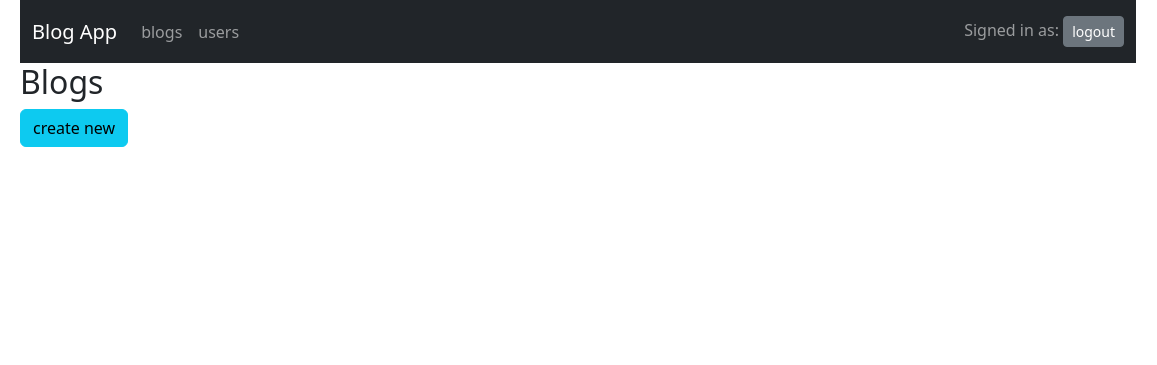
Test case: Blog app › When logged in › A blog can be created
Click the button "create new" at (74, 128), box 20,109 -> 128,147
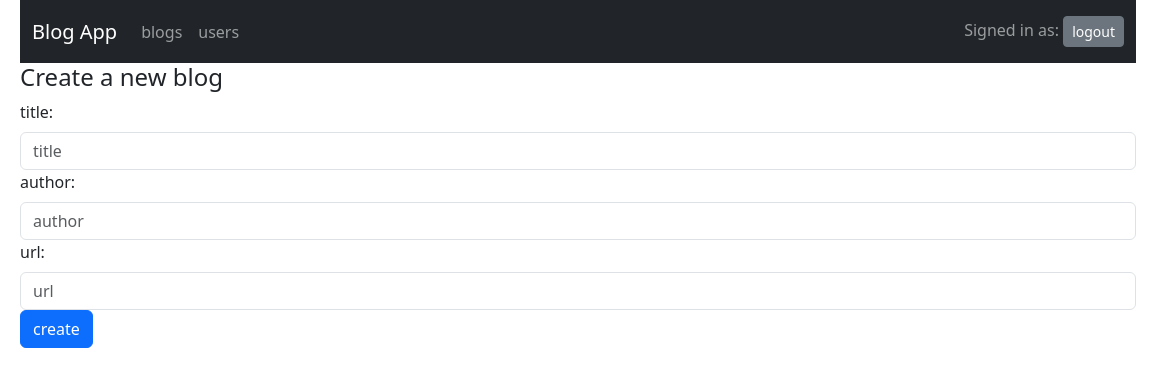
Type "this is a new blog" into the field with id "blog-title" at (578, 151), box 20,132 -> 1136,170
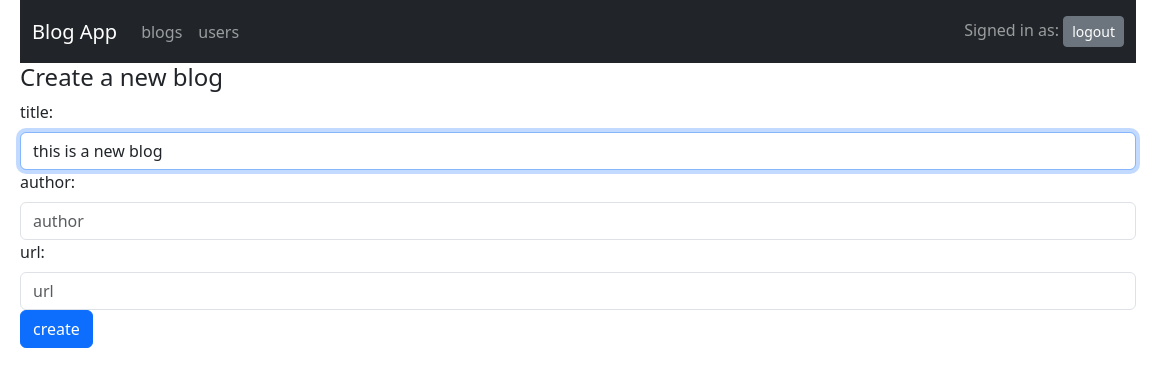
Type "Emilie Zhang" into the field with id "blog-author" at (578, 221), box 20,202 -> 1136,240
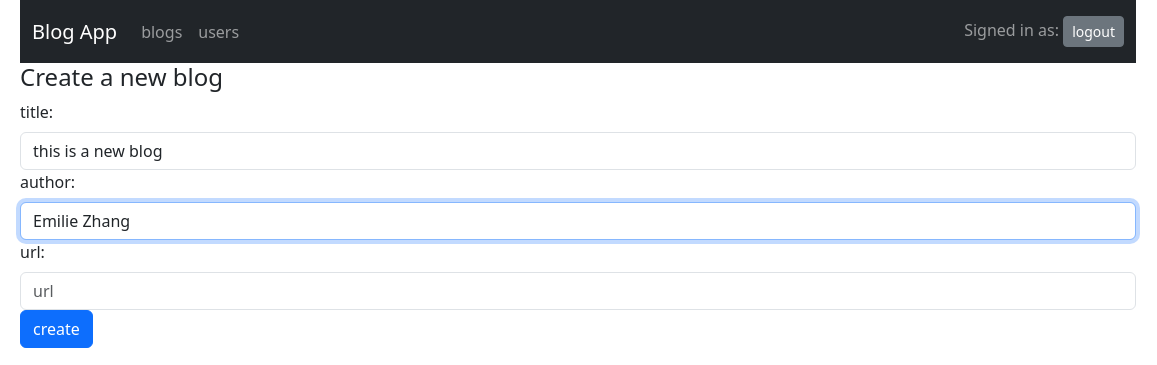
Type "localhost:5173" into the field with id "blog-url" at (578, 291), box 20,272 -> 1136,310
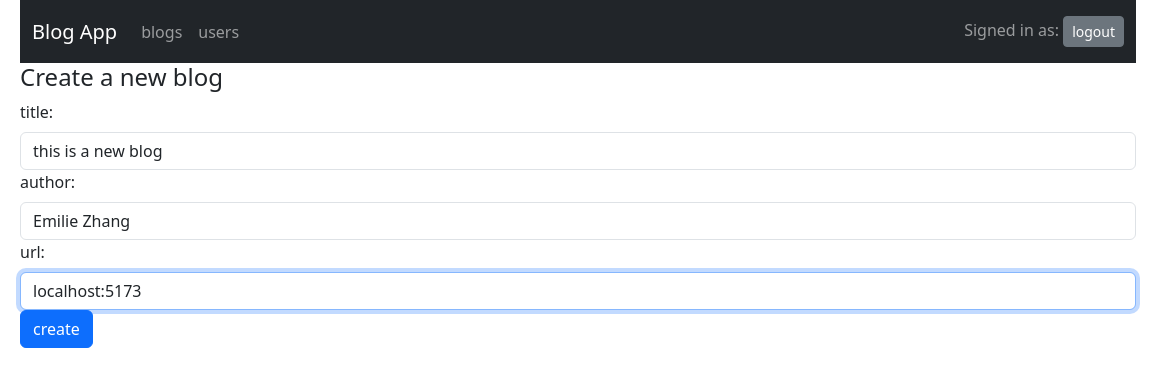
Click the button "create" at (57, 329), box 20,310 -> 93,348
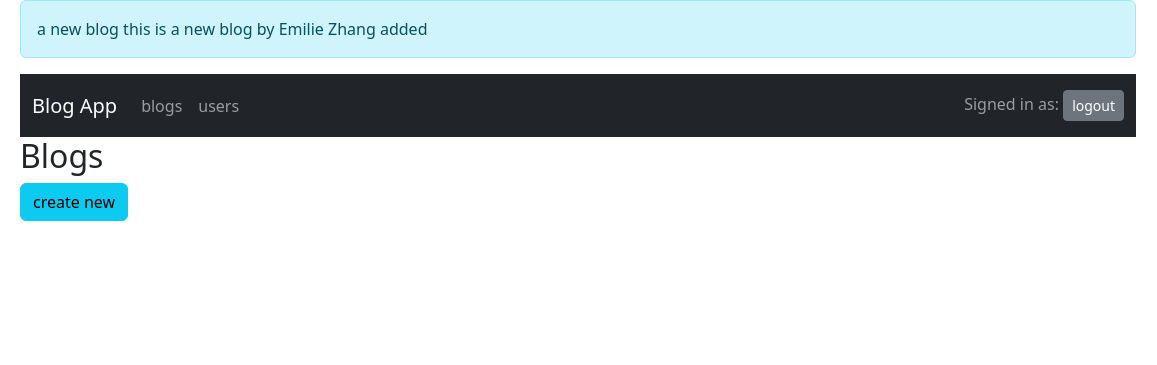
Expected: the text "this is a new blog" is shown, 37,18 -> 427,40
